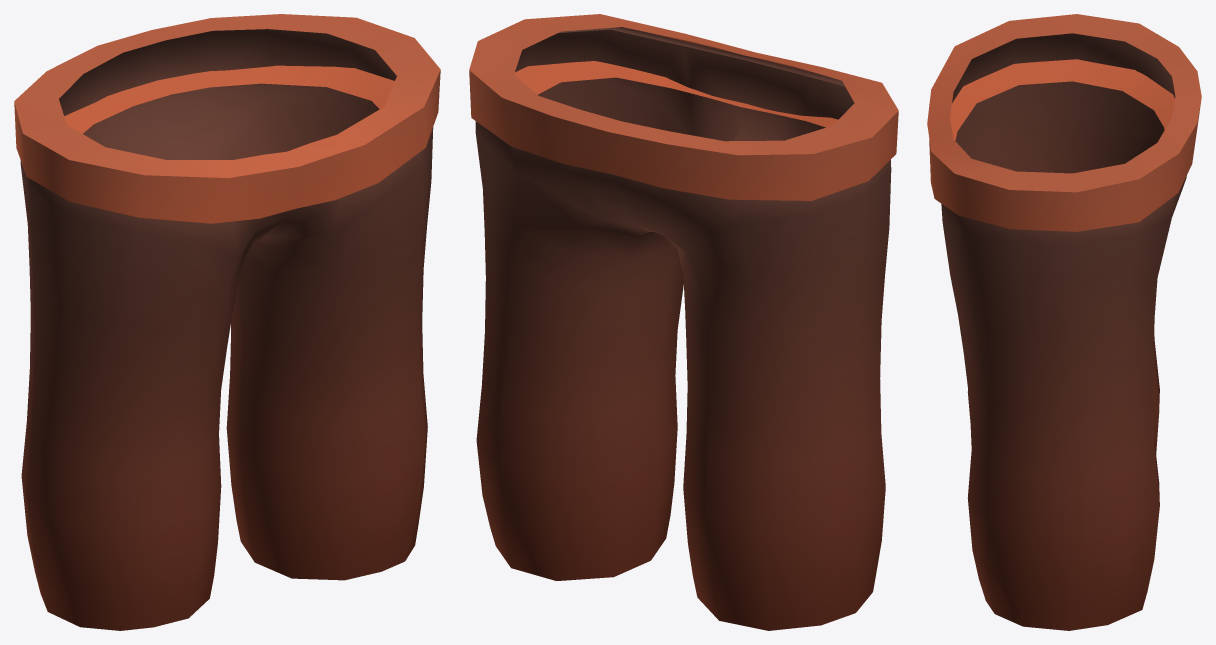
The model's file is Pants_03.glb.
The picture shows the model from 3 angles, left to right: view 1: azimuth 30°, elevation 25°; view 2: azimuth 150°, elevation 25°; view 3: azimuth 270°, elevation 25°; orthographic projection. The views are drawn at different scales.
Parts seen in each view (by area): view 1: Pants_03; view 2: Pants_03; view 3: Pants_03.
Boxes of the visible parts, x1,y1,x2,y2 form: Pants_03: (14, 14, 440, 630); Pants_03: (469, 14, 898, 630); Pants_03: (927, 14, 1201, 630).
Size of the model in its own units: 0.2576 by 0.3064 by 0.1676.
Materials: 1 (1 with a texture image).
